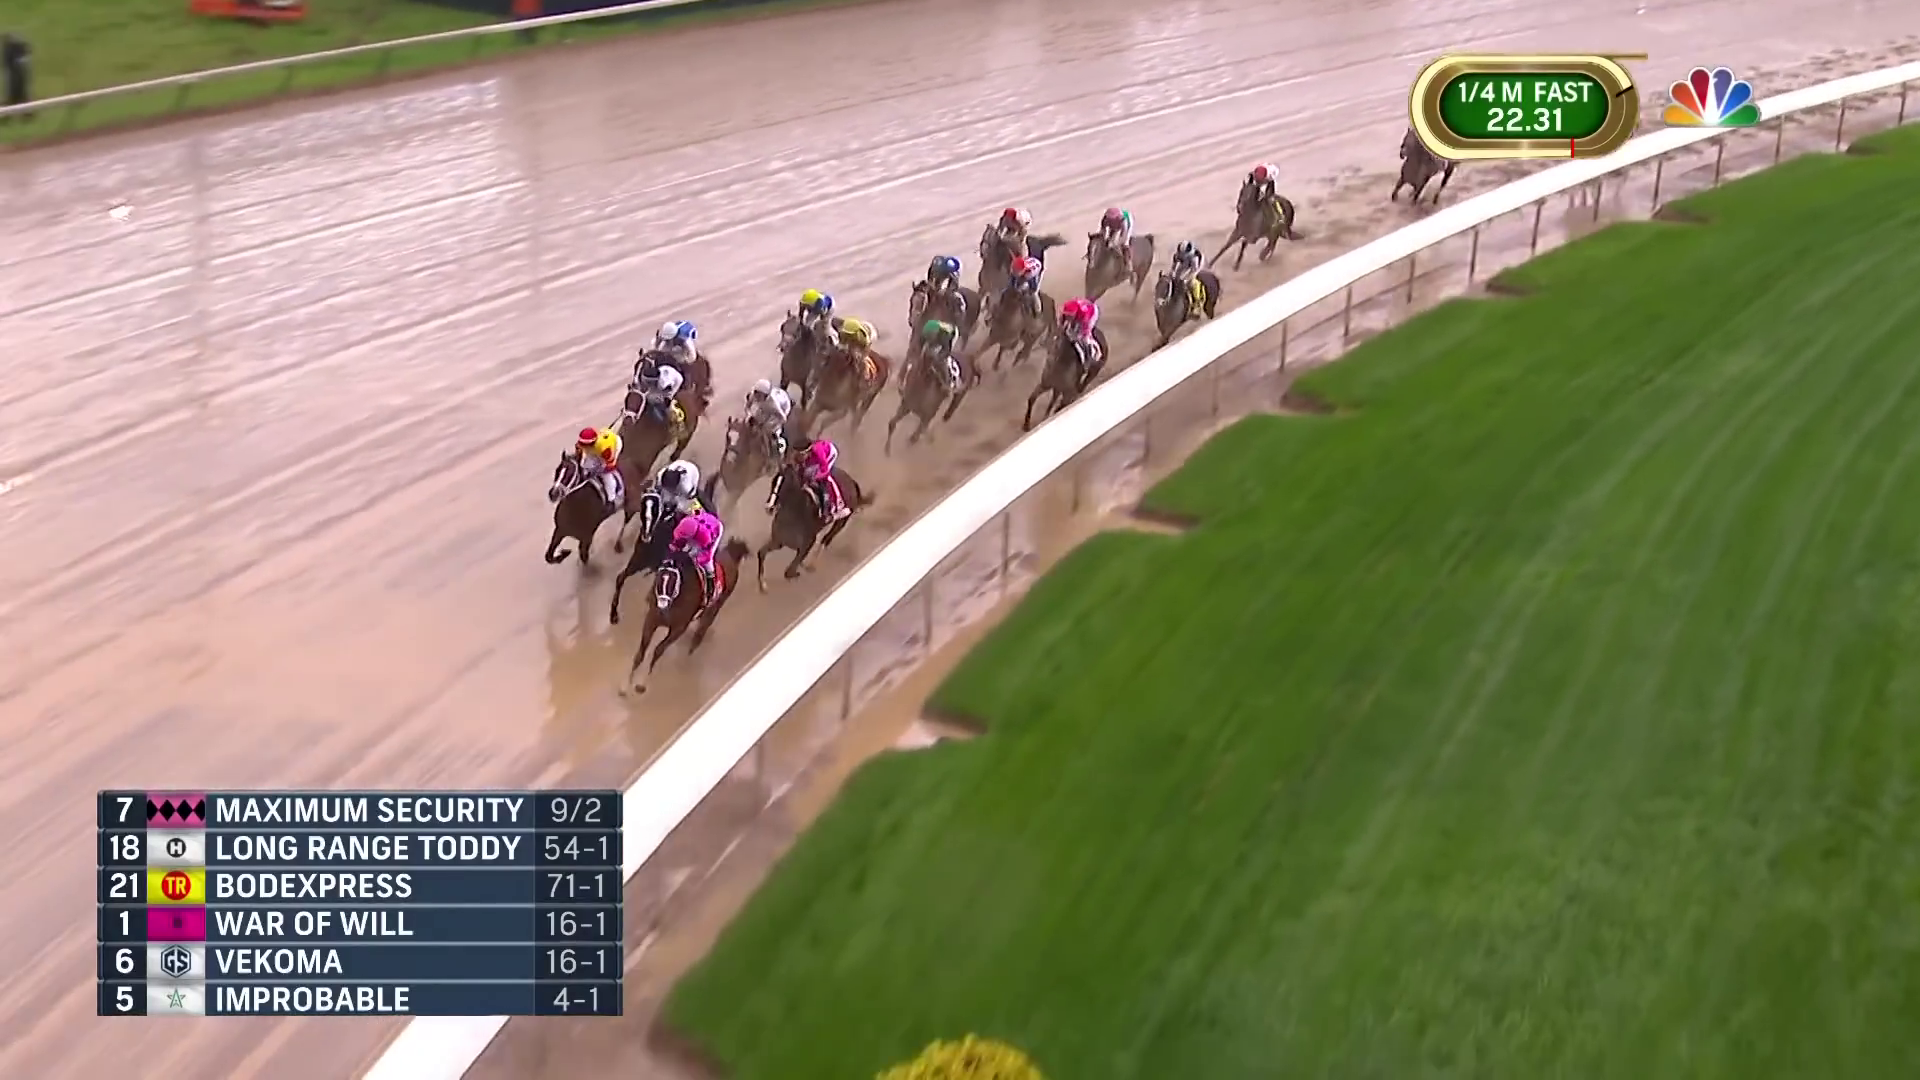jockey: (568, 427, 622, 501), (653, 318, 702, 382), (745, 382, 793, 446), (832, 319, 878, 384), (915, 320, 960, 382), (1098, 203, 1134, 270), (1063, 299, 1097, 365), (926, 252, 963, 311), (796, 443, 843, 489), (1011, 260, 1044, 323), (796, 289, 829, 351), (655, 463, 699, 506), (1247, 165, 1282, 215), (996, 203, 1029, 255), (1172, 236, 1199, 295)
